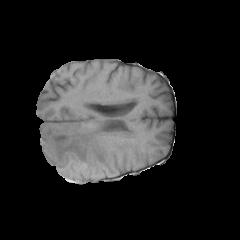glioma: (40, 123, 129, 179)
